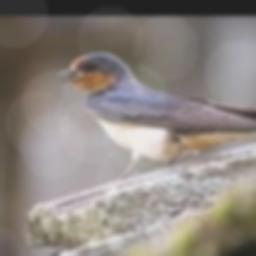Swallow: (55, 53, 256, 179)
